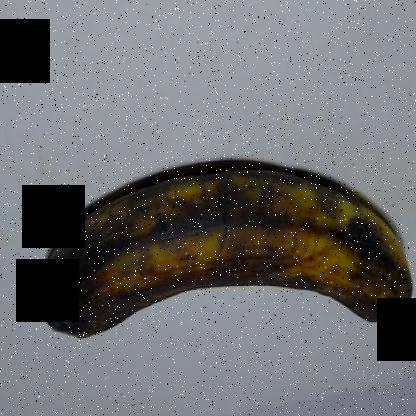overripe: (27, 152, 415, 377)
rotten: (34, 216, 130, 357)
